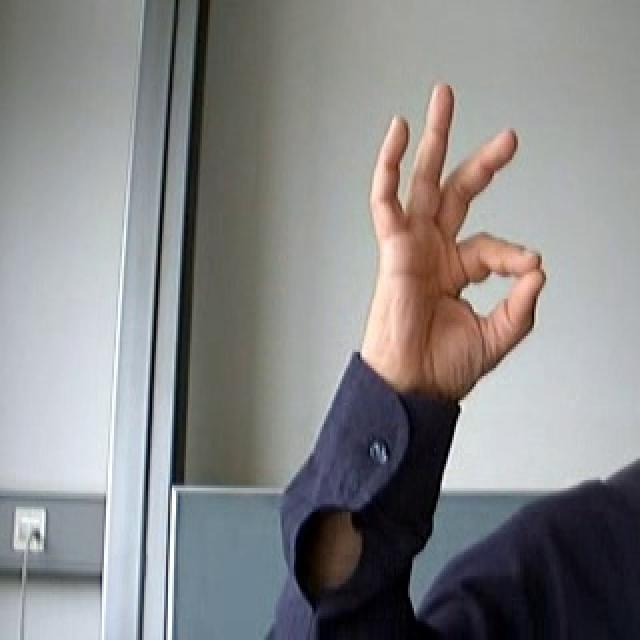F: (336, 66, 572, 409)
